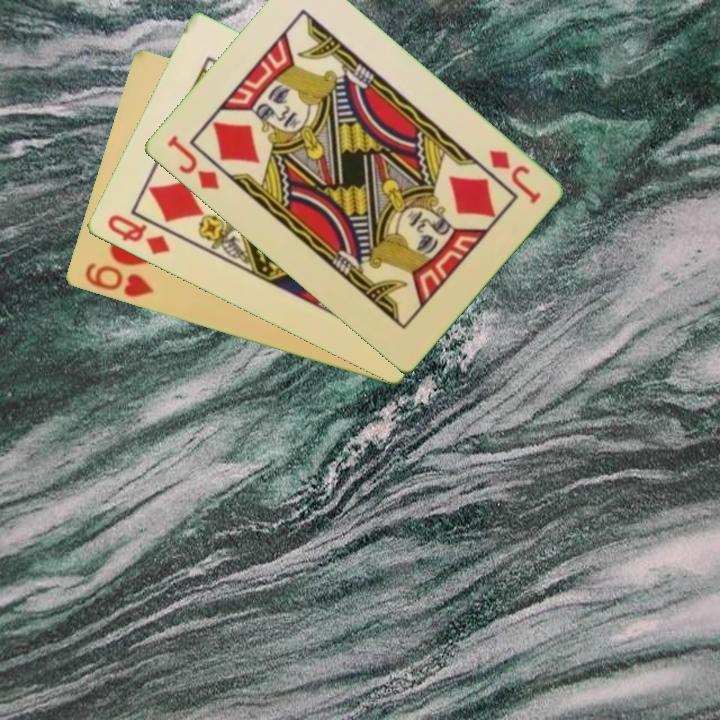6h: (81, 260, 156, 301)
Jd: (484, 146, 544, 207), (163, 132, 222, 193)
Qd: (103, 211, 173, 258)
